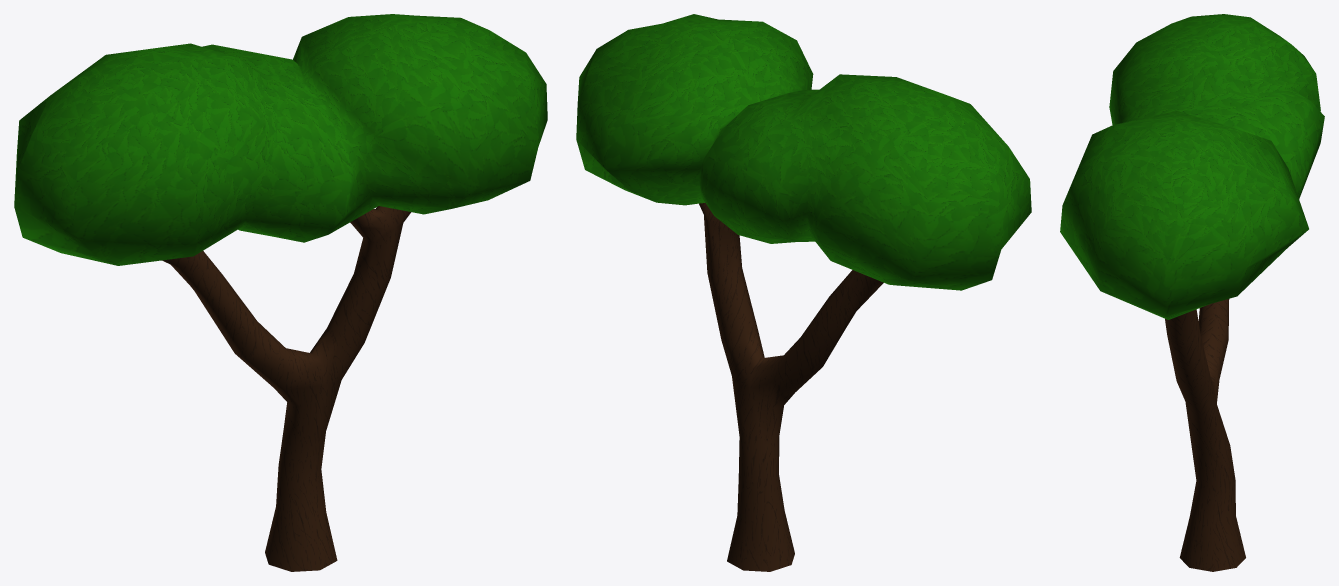
File: Tree Y.fbx
3 views of the same model, side by side, from view 1: azimuth 30°, elevation 25°; view 2: azimuth 150°, elevation 25°; view 3: azimuth 270°, elevation 25° (orthographic). The views are drawn at different scales.
Parts seen in each view (by area): view 1: Tree; view 2: Tree; view 3: Tree.
Boxes of the visible parts, bbox=[...] form: Tree: bbox=[14, 14, 547, 571]; Tree: bbox=[576, 14, 1031, 571]; Tree: bbox=[1060, 14, 1324, 571].
Size of the model in its own units: 2414 by 1273 by 2495.
1 material, 1 textured.
